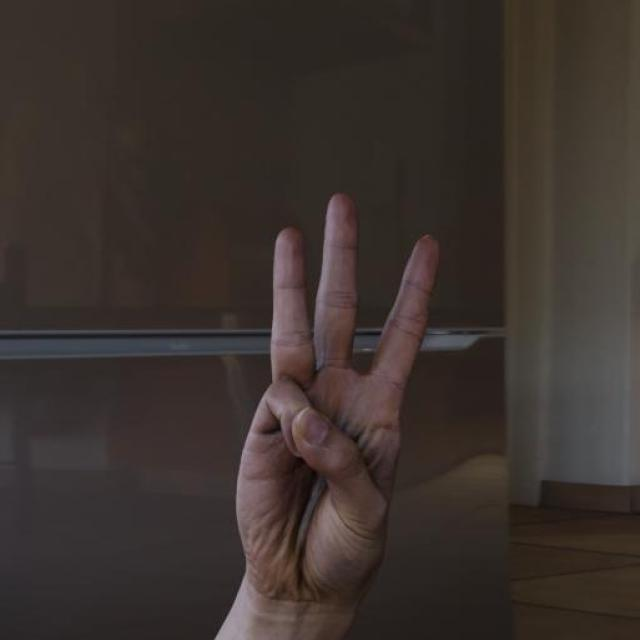W: (223, 187, 449, 617)
